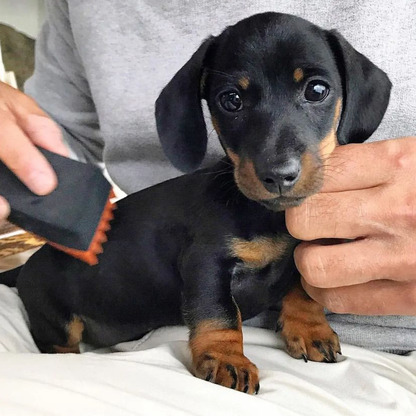dachshund: (97, 14, 394, 343)
